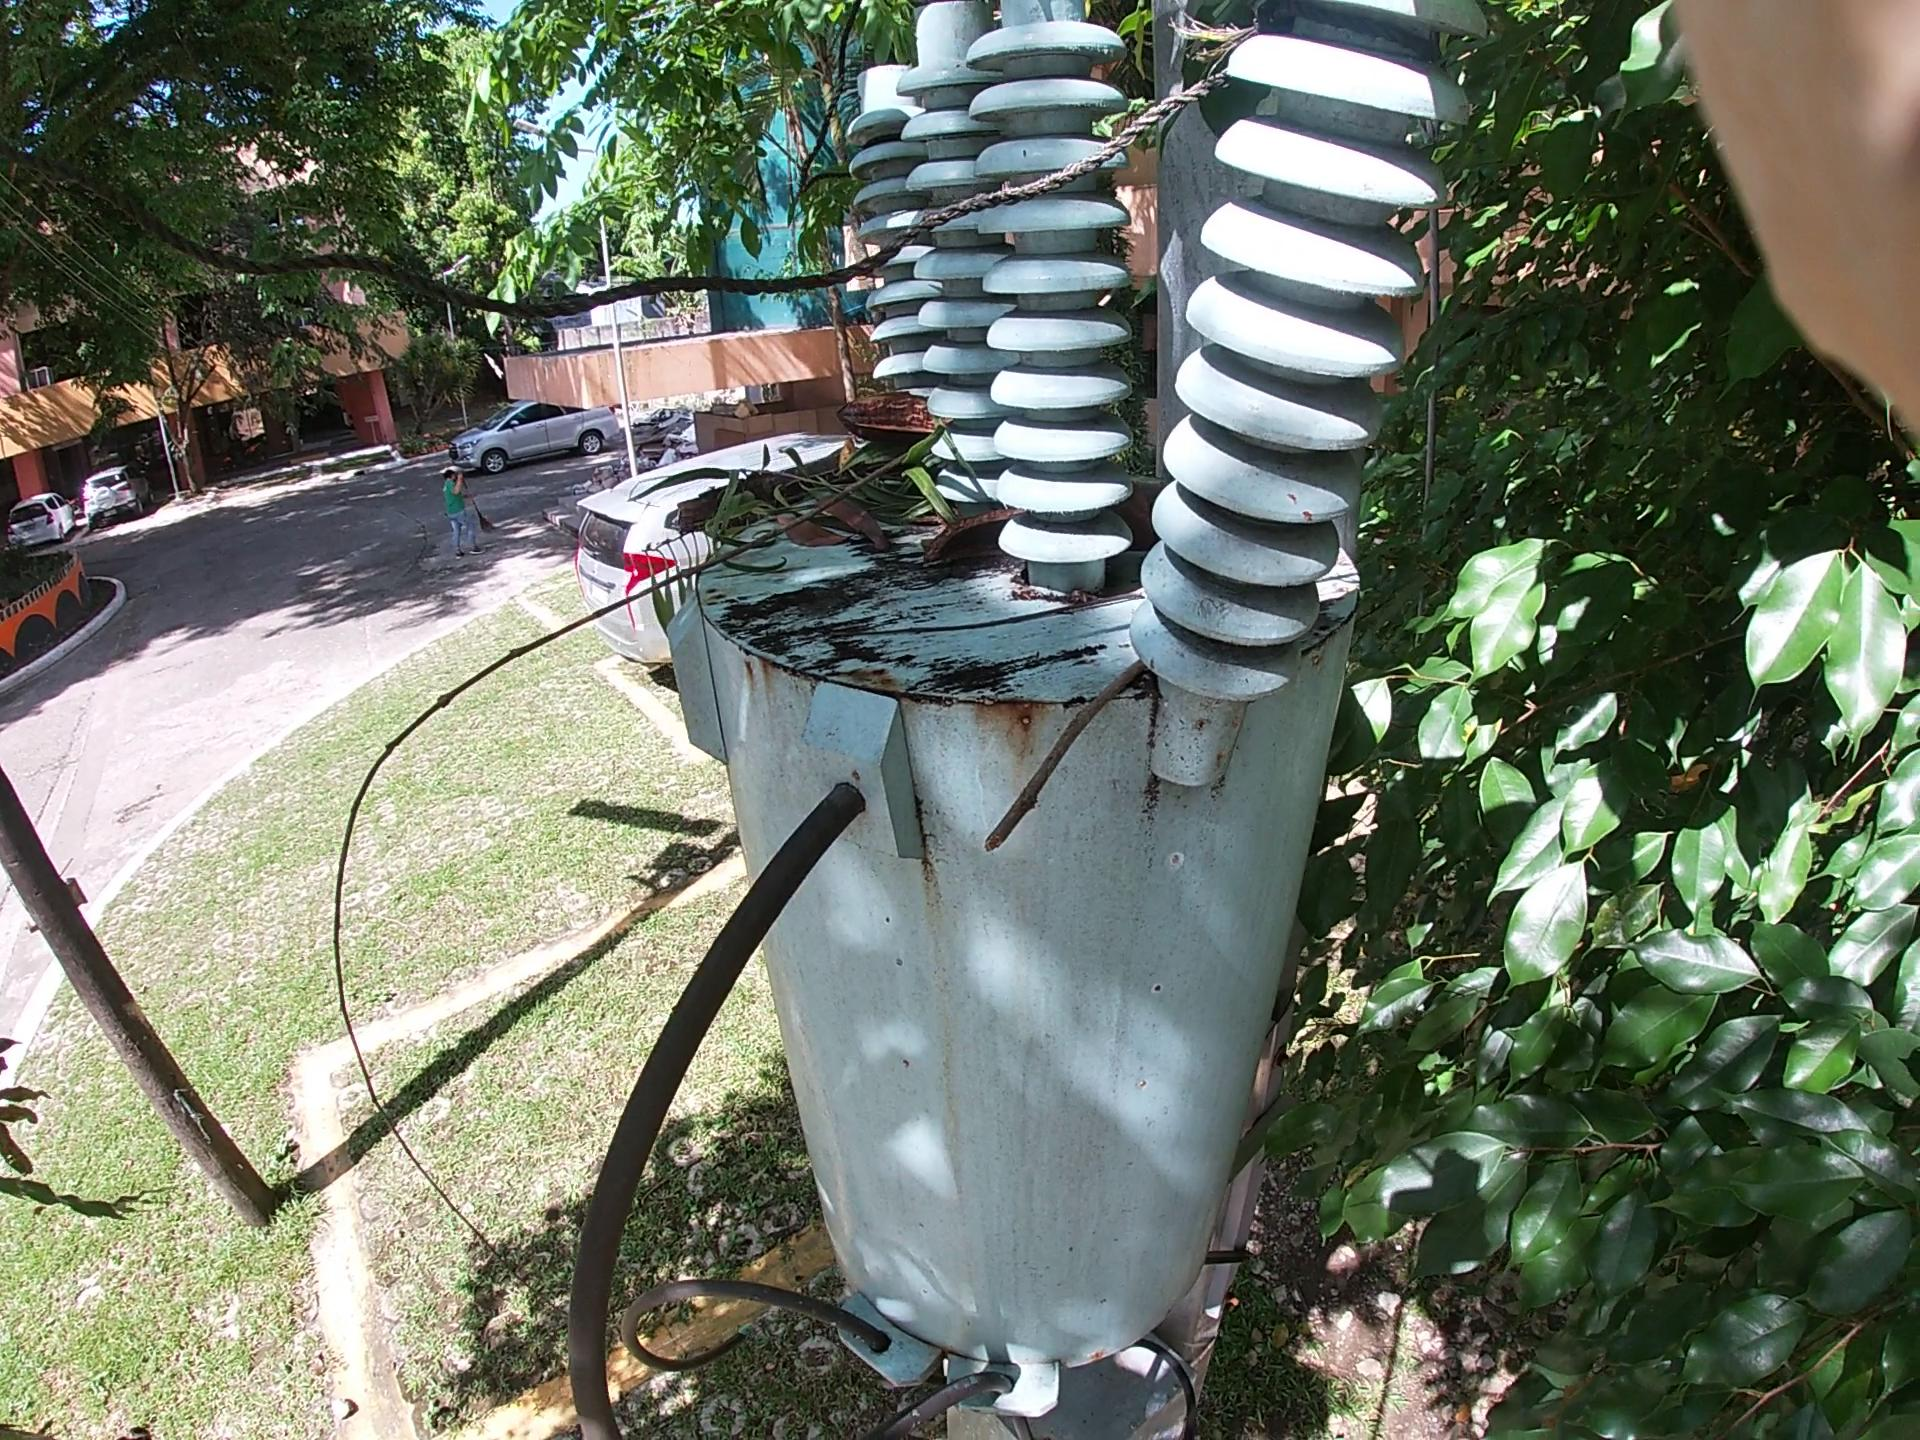branch with leaves: (497, 334, 1023, 702)
leaf: (757, 440, 877, 604)
mahogany fruit: (782, 369, 1019, 523), (890, 484, 1113, 593)
tree branch: (408, 440, 954, 720), (996, 629, 1137, 871)
